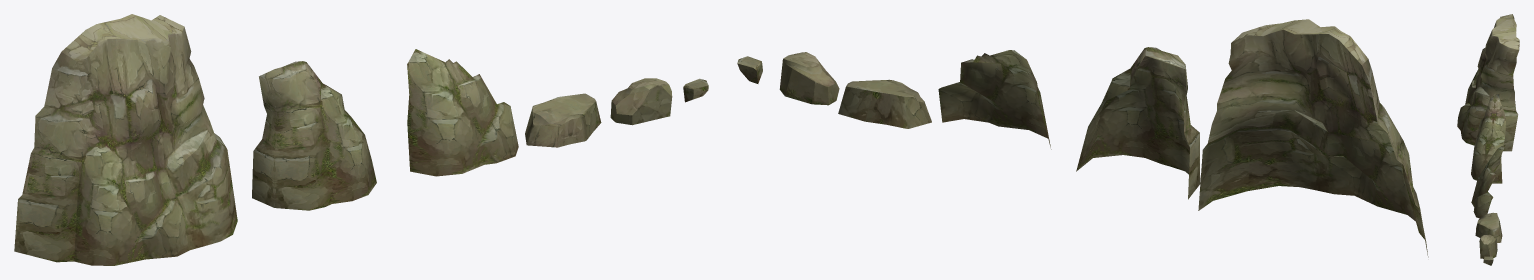
File: 2_Misc_DaShiTou_01.FBX
3 renders of one model, left to right at view 1: azimuth 30°, elevation 25°; view 2: azimuth 150°, elevation 25°; view 3: azimuth 270°, elevation 25°, orthographic. The views are drawn at different scales.
Visible parts, largest first — view 1: 2_Misc_DaShiTou_01, 2_Misc_DaShiTou_02, 2_Misc_DaShiTou_03, 2_Misc_DaShiTou_04, 2_Misc_DaShiTou_05, 2_Misc_DaShiTou_06; view 2: 2_Misc_DaShiTou_01, 2_Misc_DaShiTou_02, 2_Misc_DaShiTou_03, 2_Misc_DaShiTou_04, 2_Misc_DaShiTou_05, 2_Misc_DaShiTou_06; view 3: 2_Misc_DaShiTou_01, 2_Misc_DaShiTou_02, 2_Misc_DaShiTou_03, 2_Misc_DaShiTou_04, 2_Misc_DaShiTou_05, 2_Misc_DaShiTou_06.
Boxes of the visible parts, <box> form: 2_Misc_DaShiTou_01: <box>14,14,237,265</box>; 2_Misc_DaShiTou_02: <box>252,61,376,210</box>; 2_Misc_DaShiTou_03: <box>407,49,518,176</box>; 2_Misc_DaShiTou_04: <box>525,93,601,147</box>; 2_Misc_DaShiTou_05: <box>610,78,672,125</box>; 2_Misc_DaShiTou_06: <box>683,78,708,102</box>; 2_Misc_DaShiTou_01: <box>1198,19,1428,257</box>; 2_Misc_DaShiTou_02: <box>1076,47,1200,199</box>; 2_Misc_DaShiTou_03: <box>938,50,1051,149</box>; 2_Misc_DaShiTou_04: <box>838,79,931,128</box>; 2_Misc_DaShiTou_05: <box>779,52,839,105</box>; 2_Misc_DaShiTou_06: <box>737,56,762,83</box>; 2_Misc_DaShiTou_01: <box>1457,14,1519,151</box>; 2_Misc_DaShiTou_02: <box>1471,93,1505,183</box>; 2_Misc_DaShiTou_03: <box>1471,145,1505,218</box>; 2_Misc_DaShiTou_04: <box>1475,212,1502,243</box>; 2_Misc_DaShiTou_05: <box>1479,235,1497,258</box>; 2_Misc_DaShiTou_06: <box>1483,256,1493,265</box>.
Size of the model in its own units: 2945 by 841 by 452.
